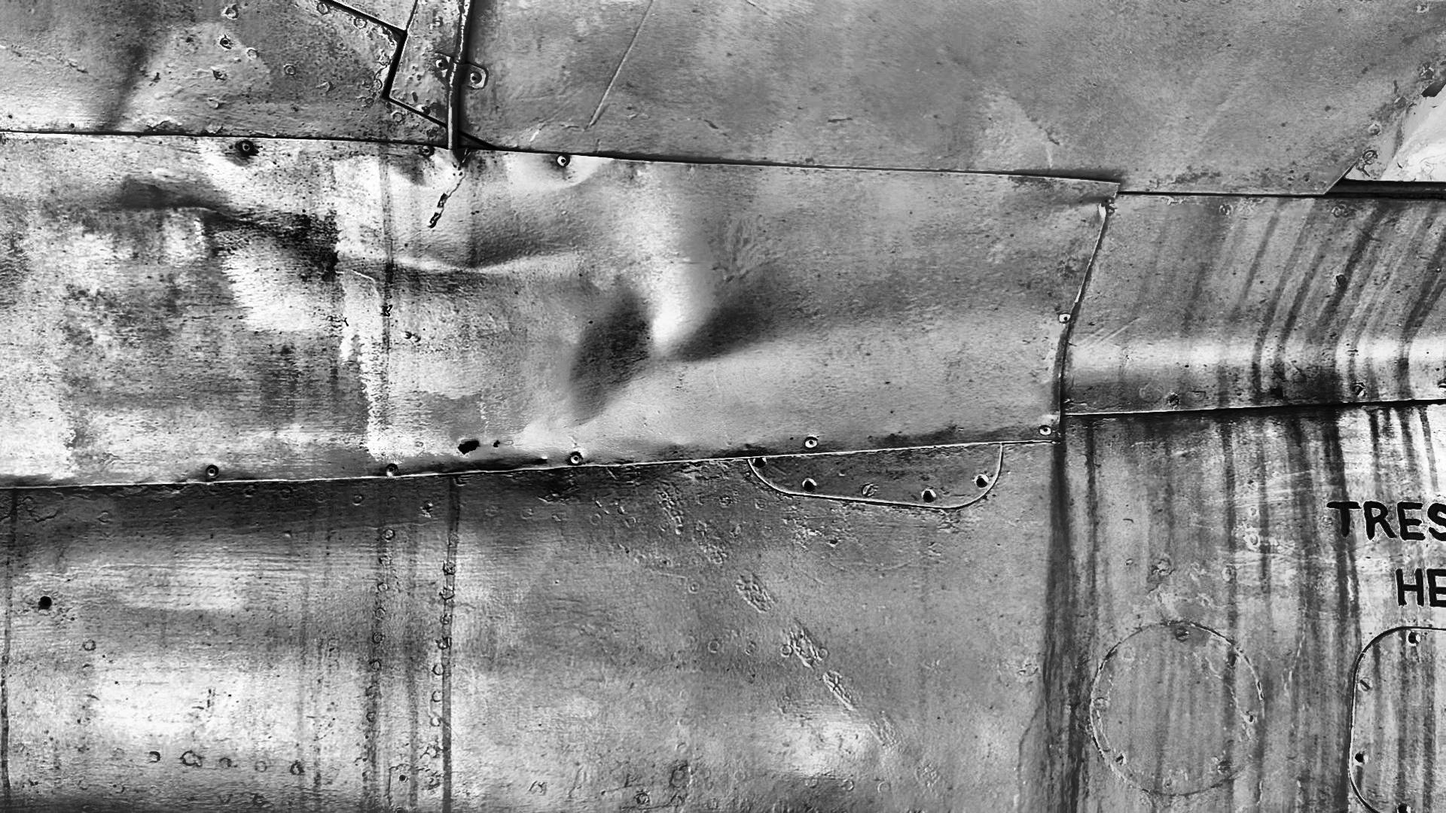dent: (136, 202, 554, 276), (560, 295, 634, 425), (643, 304, 758, 366), (98, 45, 160, 131), (396, 452, 619, 473), (505, 155, 595, 188), (387, 148, 456, 190), (221, 137, 267, 169)
missing-head: (920, 489, 938, 504), (973, 474, 991, 489), (803, 477, 816, 494), (1405, 632, 1419, 647), (753, 458, 768, 471), (1354, 753, 1368, 765)
scratch: (584, 2, 655, 128)
